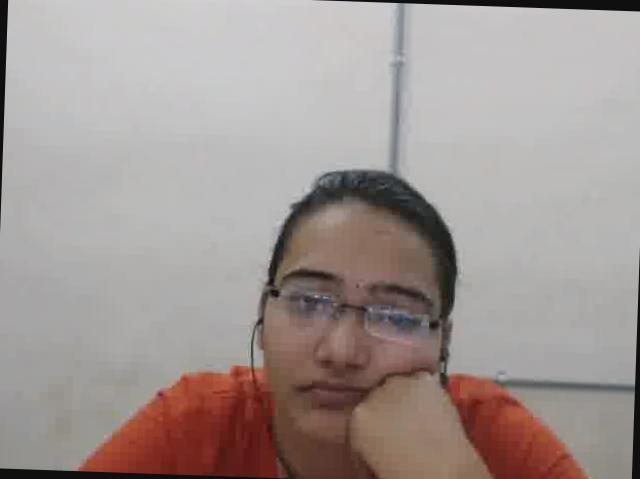bosan: (258, 205, 446, 453)
